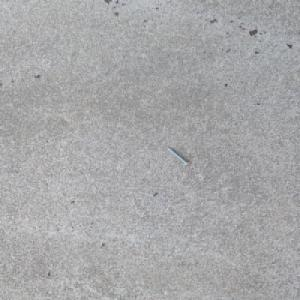Screw: (165, 146, 191, 165)
